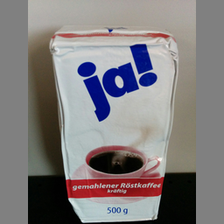chocolate: (50, 24, 178, 224)
